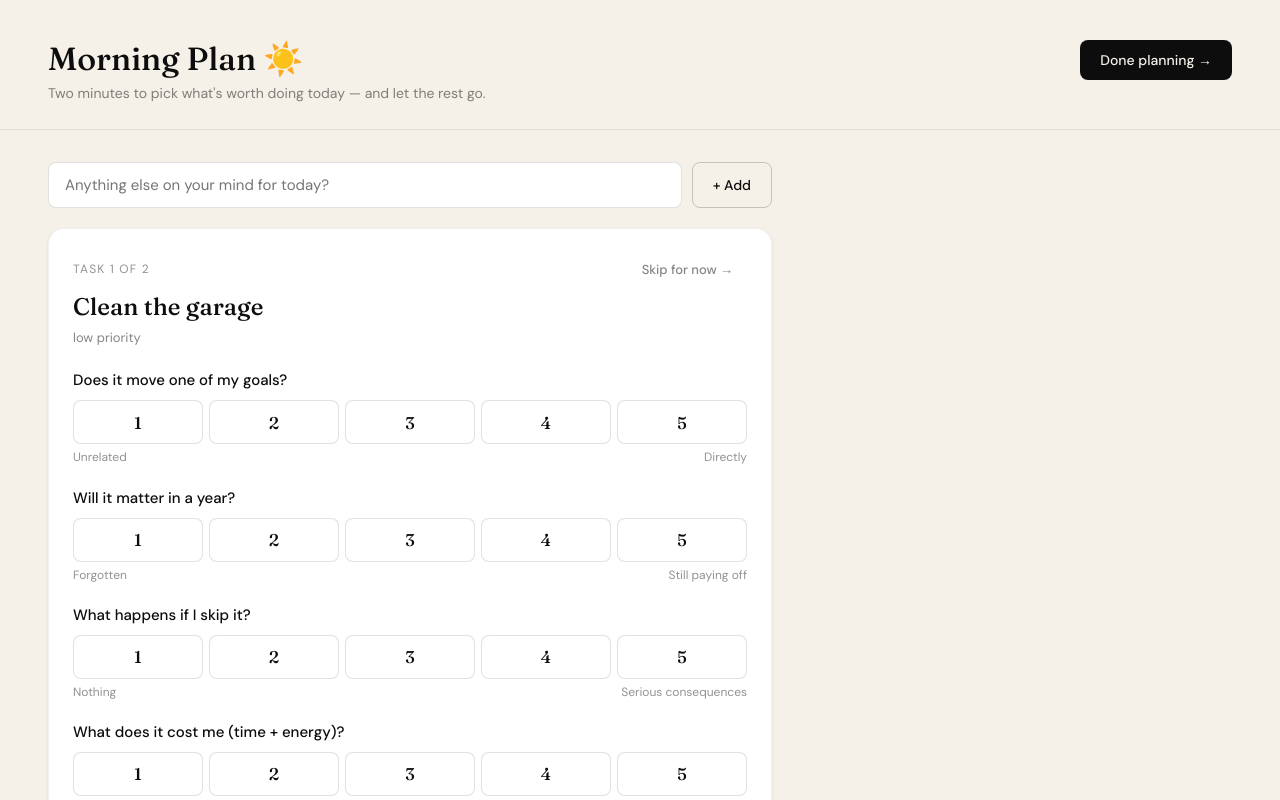
after skipping, the card moves to the next task in the list
Expected: the heading "Clean the garage" is shown, [73,292,263,321]
Click the button "Skip for now →" at [687, 270], box [628,253,747,287]
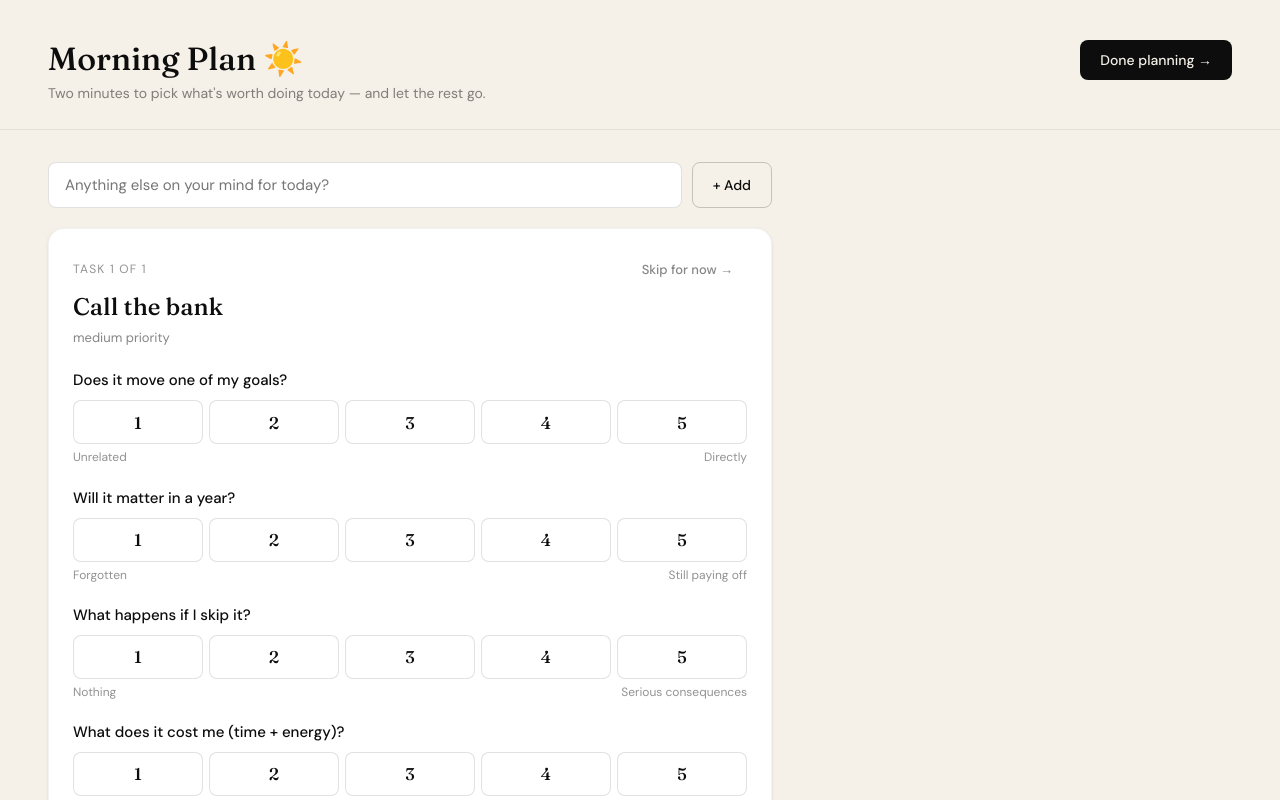
Result: the heading "Call the bank" is shown at [73,292,223,321]
